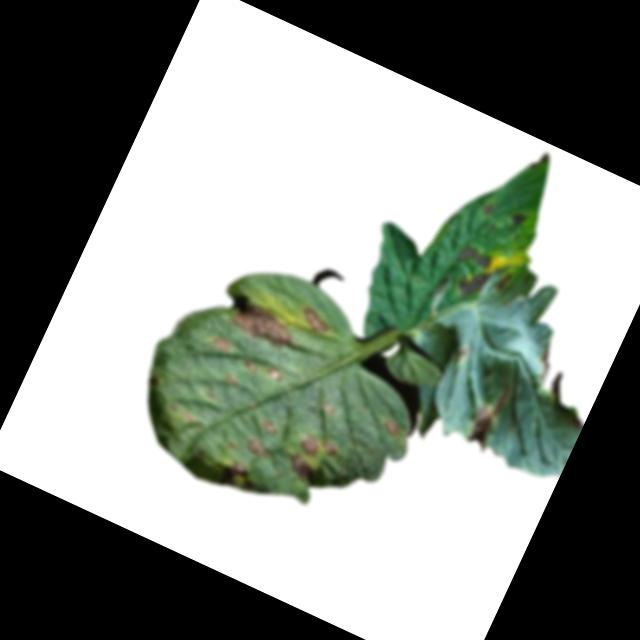Early_blight: (457, 369, 520, 452), (221, 298, 299, 355), (289, 424, 341, 465), (526, 335, 564, 390), (281, 448, 322, 487), (452, 239, 495, 273), (457, 266, 492, 304), (297, 305, 336, 338), (243, 432, 274, 463), (206, 330, 234, 353), (261, 361, 285, 385), (255, 414, 280, 437), (240, 356, 262, 377), (228, 456, 250, 477), (506, 207, 527, 228), (381, 417, 401, 436), (479, 197, 496, 216)
